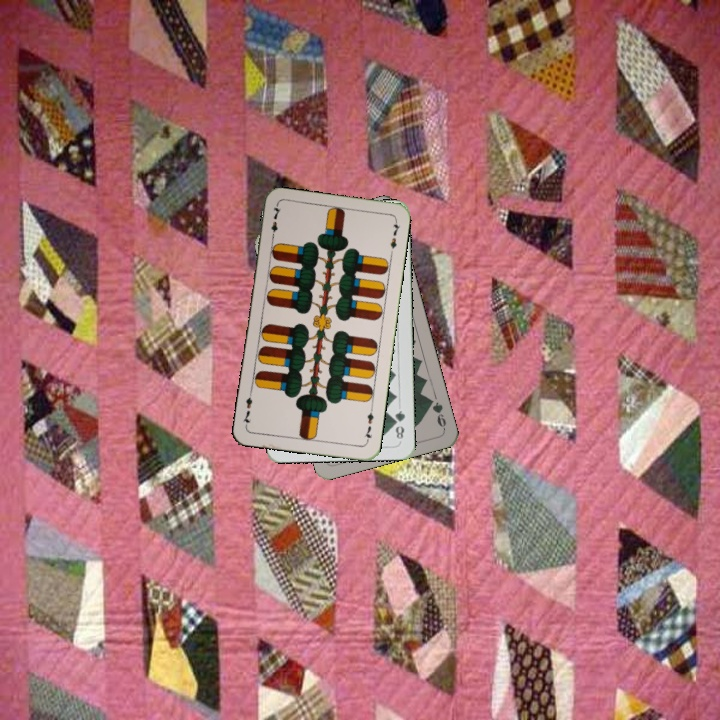E7: (267, 202, 284, 242), (360, 404, 376, 445)
G8: (390, 406, 408, 442)
G9: (424, 394, 449, 432)
